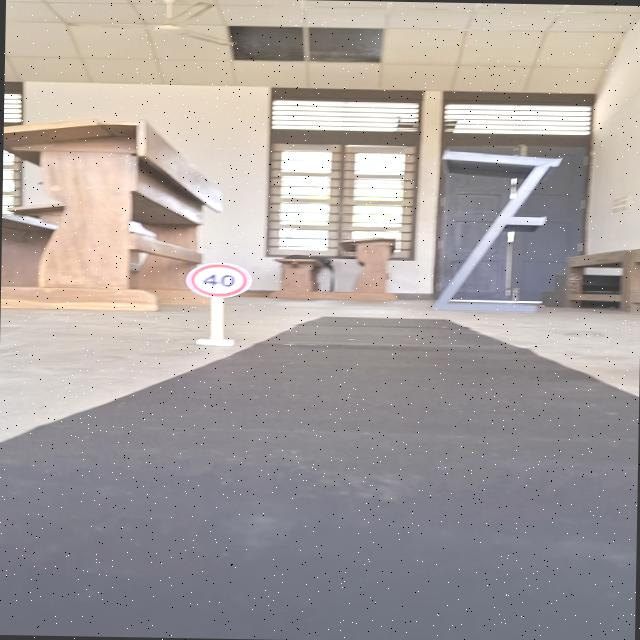Speed40: (184, 258, 252, 300)
